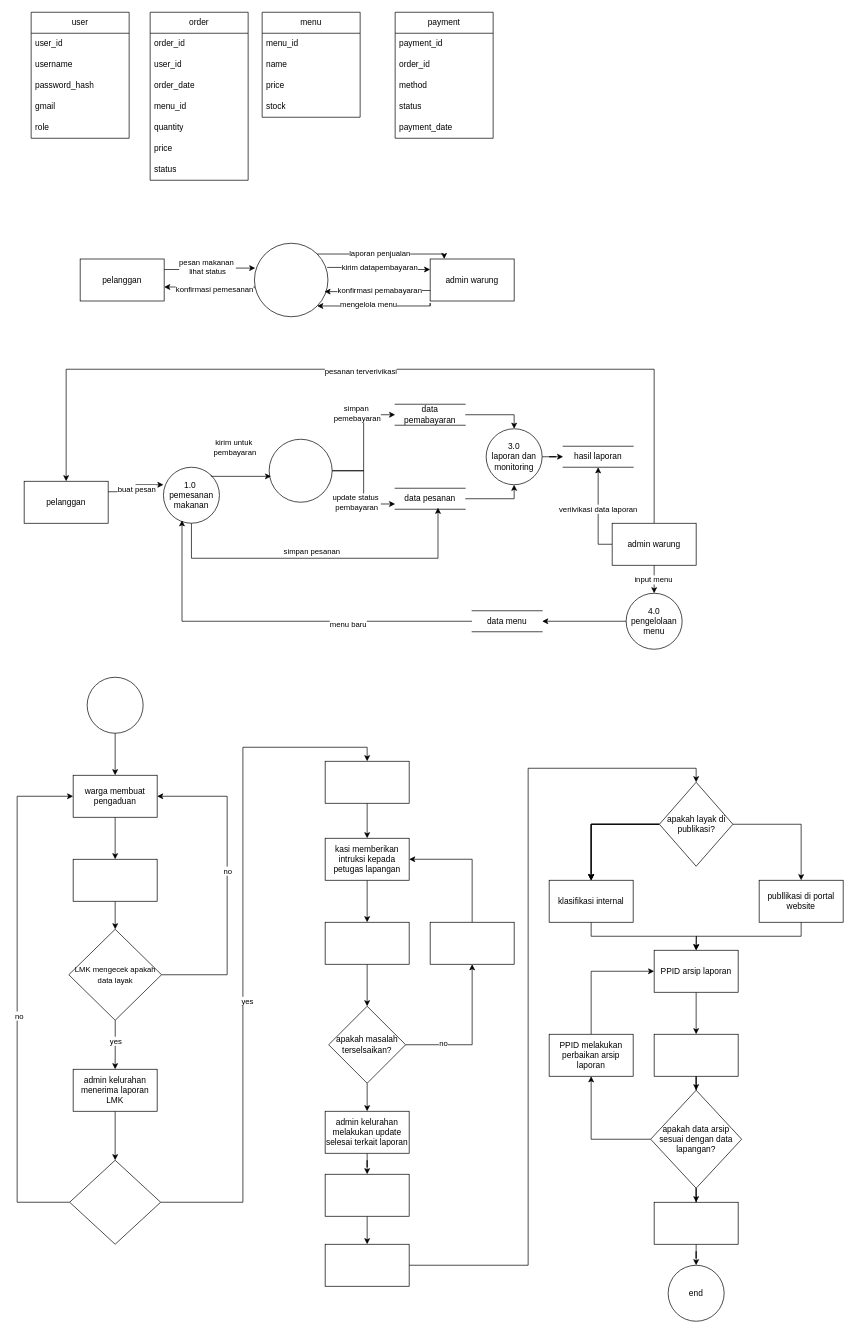
Image size: 855x1334. Some labels were removed from this diagram. The centre of each missing label's shape, as x and y in pixels:
2.0 proses pembayaran: point 300,470
admin kelurahan memverifikasi data: point 115,1202
admin mengirim laporan ke PPID: point 366,1195
arsip di terima kepala lurah: point 695,1055
kasi melakukan evaluasi ulang masalah: point 471,943
kasi terkait menerima larporan admin: point 366,782
kepala lurah menandatangani finalisasi arsip laporan: point 695,1223
pengaduan diterima pihak LMK: point 114,880
petugas lapangan menindaklanjuti: point 366,943
PPID menerima laporan final: point 366,1265
sistem informasi warbay: point 291,280
start: point 114,705
